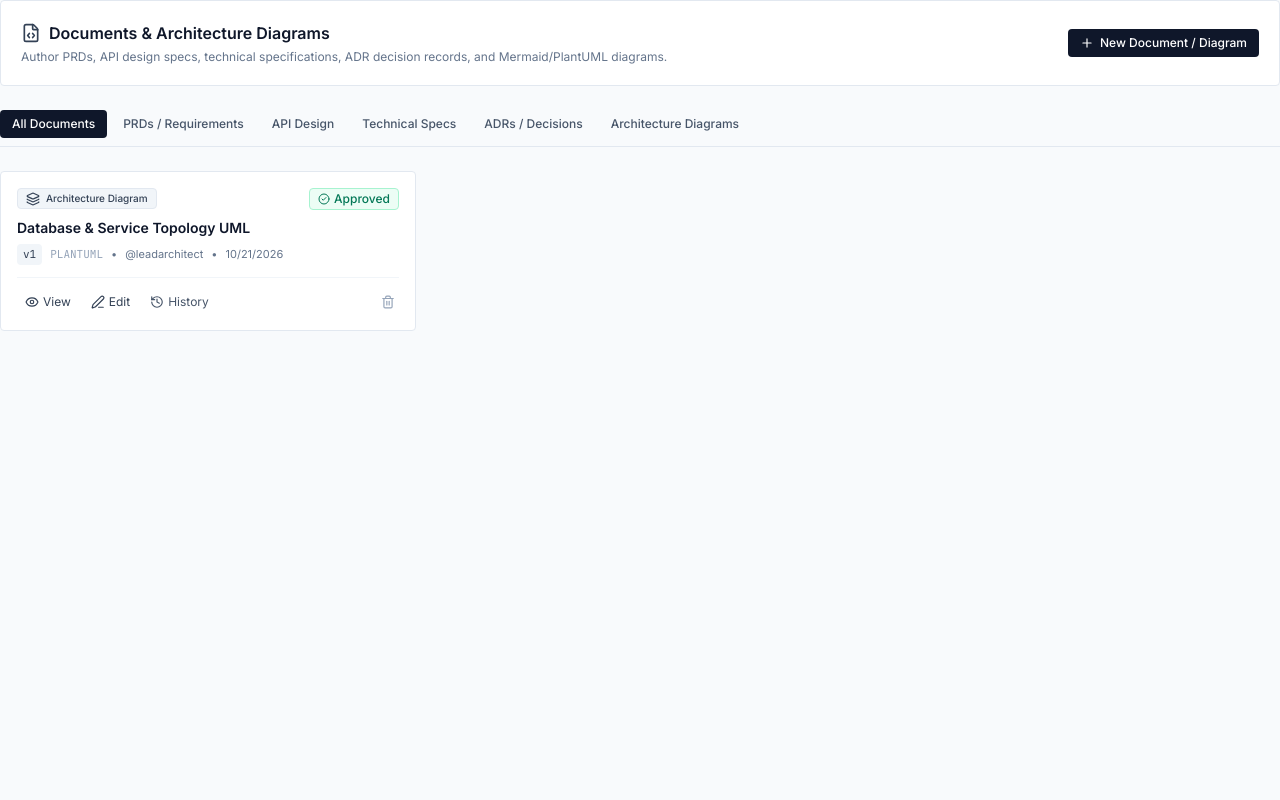
Test: Phase 4: Documents & Architecture Diagrams Components › renders PlantUML documents using valid syntax with self-hosted renderer URL
The image size is (1280, 800).
Expected: the heading "Database & Service Topology UML" is shown, [17,219,250,236]
Click Preview button
Click the button titled "View & Preview" at (48, 302), box [17,290,79,314]
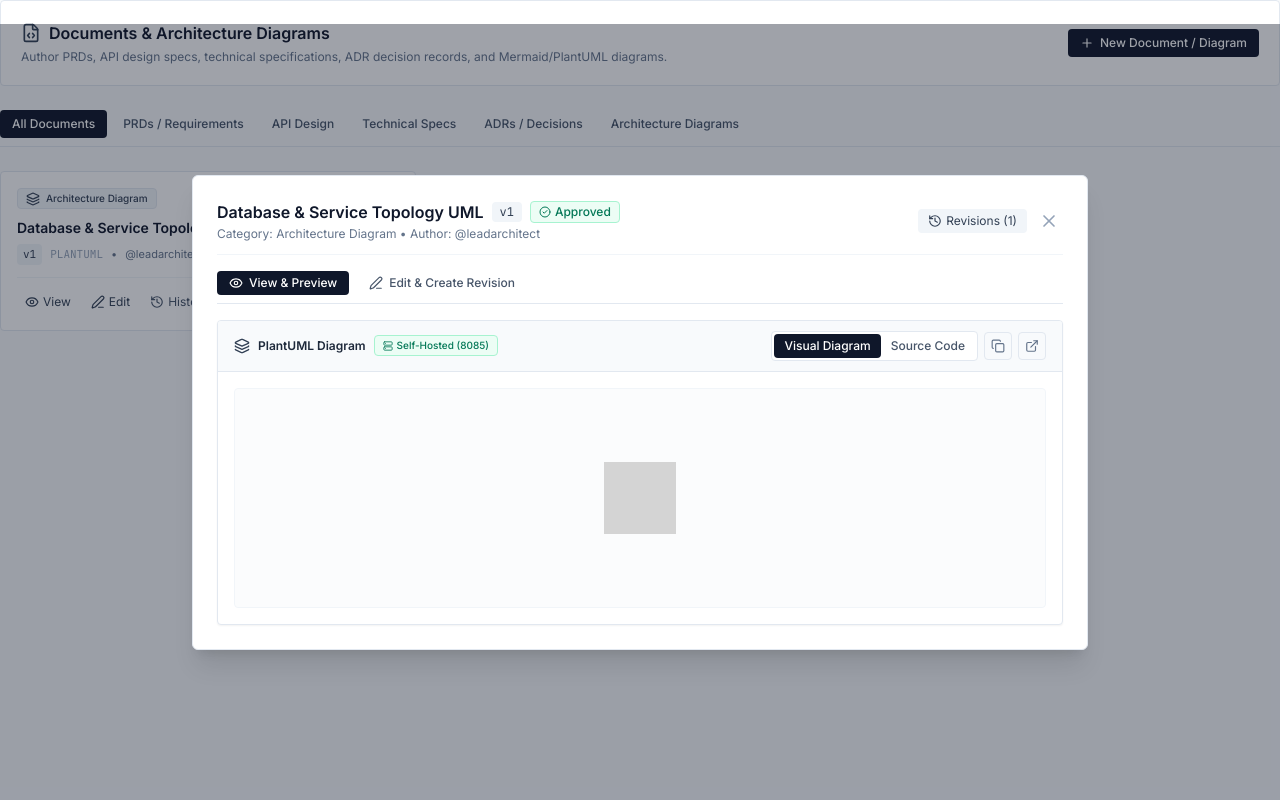
Now the text "PlantUML Diagram" is shown, box [258,338,366,354]
